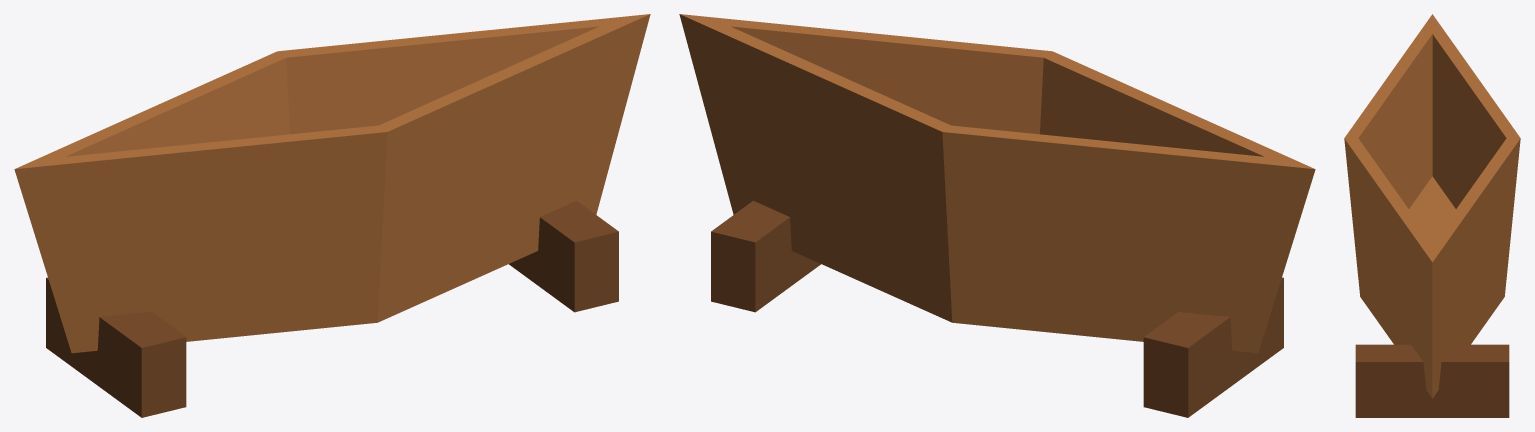
The model's file is feed_trough_wood.fbx.
3 views of the same model, side by side, from view 1: azimuth 30°, elevation 25°; view 2: azimuth 150°, elevation 25°; view 3: azimuth 270°, elevation 25° (orthographic). The views are drawn at different scales.
Parts seen in each view (by area): view 1: feed_trough_wood; view 2: feed_trough_wood; view 3: feed_trough_wood.
Part boxes in pixels (x1,y1,x2,y2): feed_trough_wood: [14, 14, 650, 417]; feed_trough_wood: [679, 14, 1315, 417]; feed_trough_wood: [1344, 14, 1520, 417].
Size of the model in its own units: 2 by 0.7 by 0.6.
